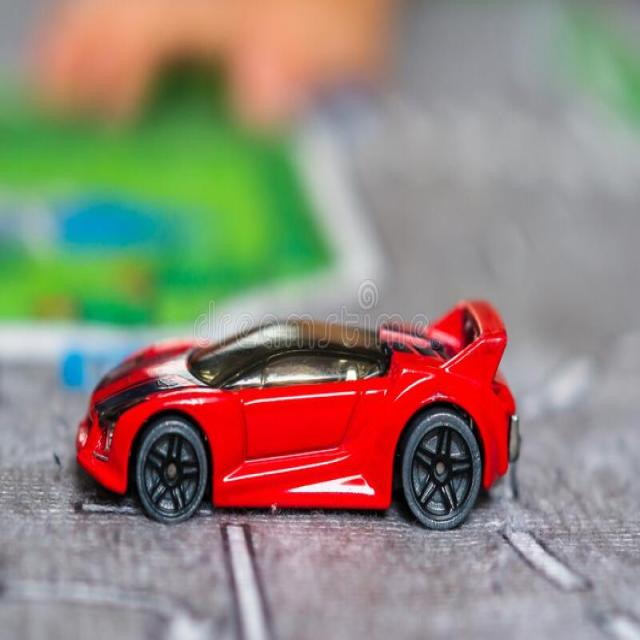Car: (75, 297, 521, 531)
